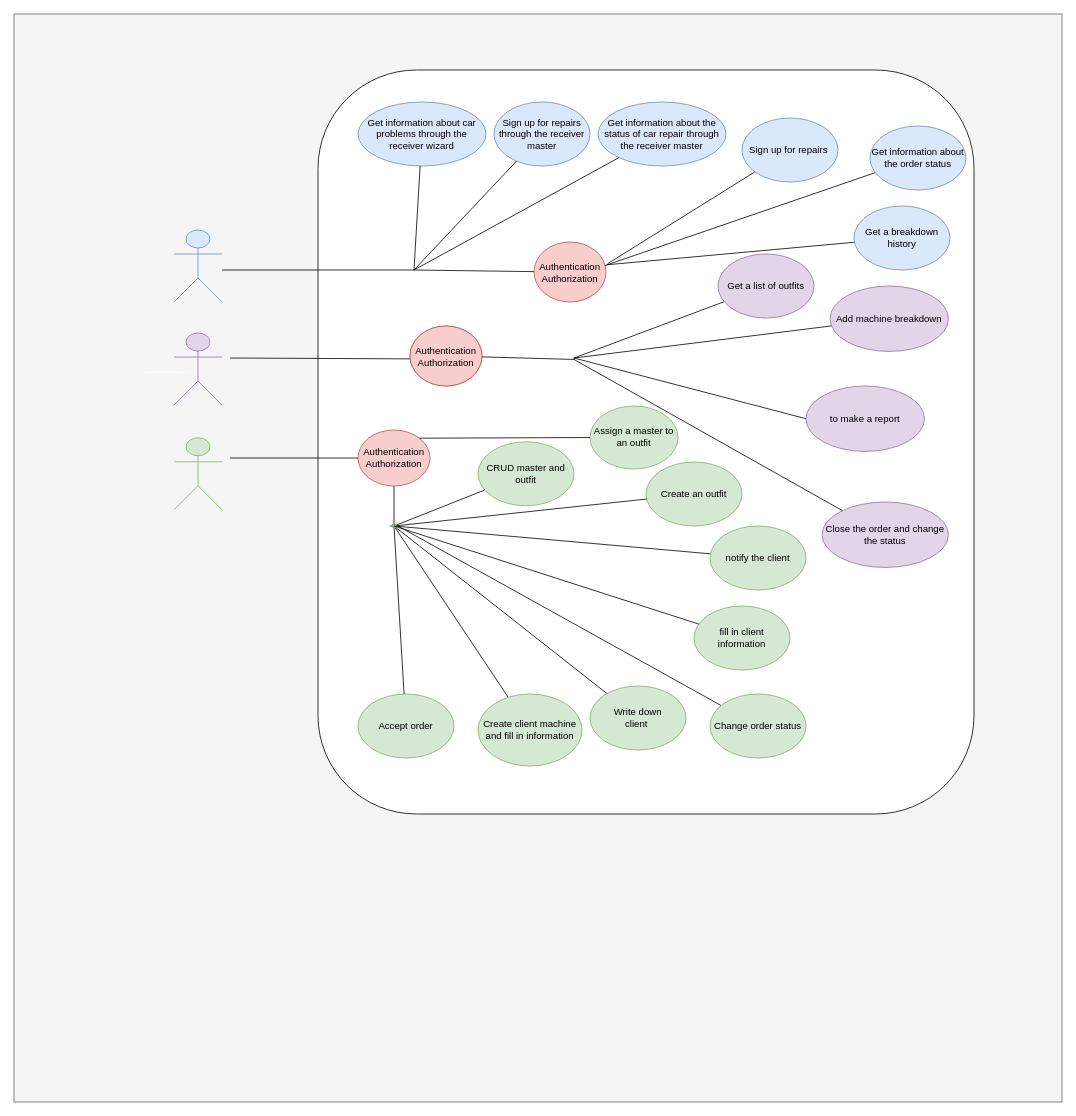
Some shapes in this 1076 by 1116 pixel diagram are drawn without their labels. The box of each missing label's shape, as (x1, y1, x2, y2) in pixels:
Client: (173, 229, 222, 302)
Master: (173, 332, 222, 405)
MasterReceiver: (173, 437, 222, 510)
